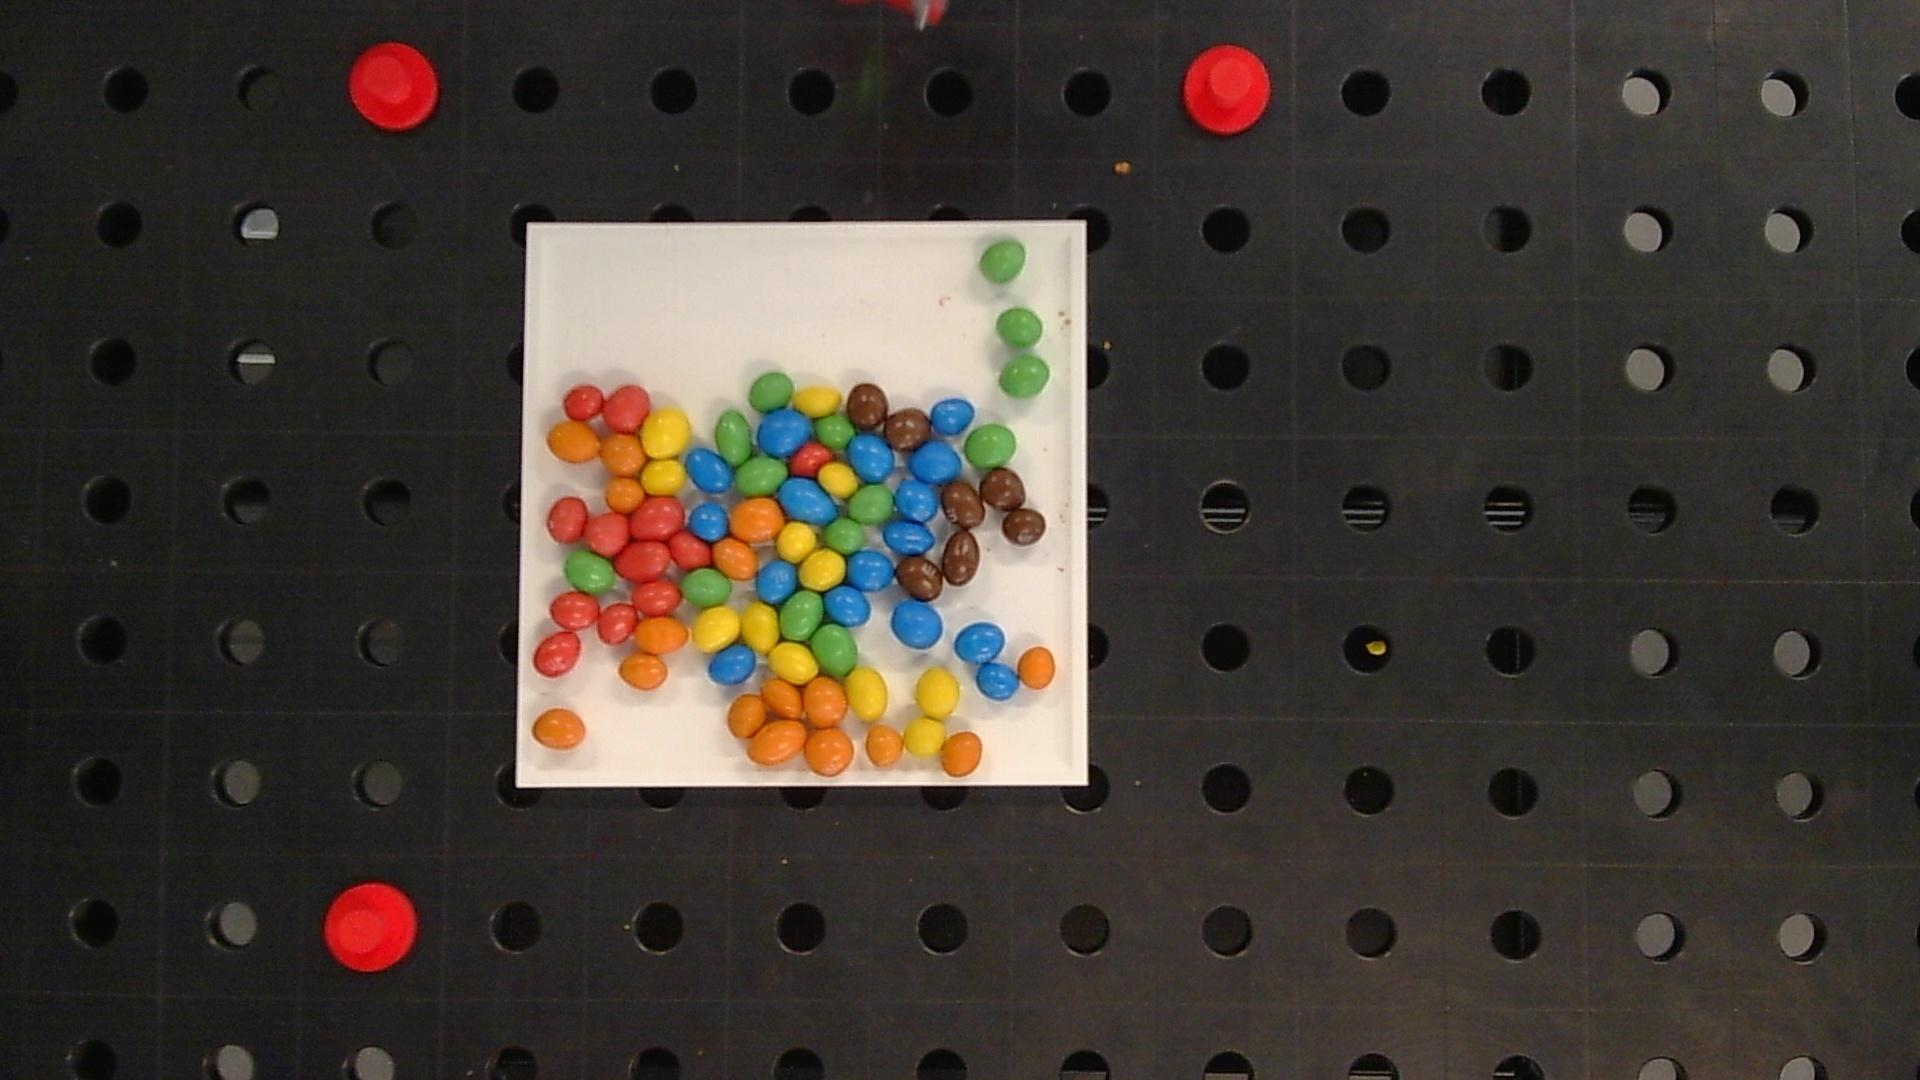blue: (779, 477, 837, 522), (891, 600, 943, 649), (758, 409, 812, 455), (910, 440, 961, 484), (848, 434, 894, 481), (955, 622, 1005, 665), (686, 448, 731, 493), (895, 479, 940, 522), (708, 645, 757, 684), (847, 551, 895, 591), (825, 587, 870, 626), (757, 560, 798, 603), (884, 521, 932, 555), (976, 663, 1021, 700), (931, 397, 975, 434), (688, 502, 728, 539)
brown: (942, 481, 986, 529), (942, 530, 980, 585), (885, 407, 931, 450), (847, 382, 887, 430), (898, 556, 942, 600), (981, 468, 1025, 510), (1002, 509, 1046, 545)
green: (812, 625, 857, 675), (998, 356, 1050, 398), (965, 425, 1017, 467), (564, 550, 616, 592), (779, 592, 823, 640), (736, 455, 787, 495), (978, 241, 1026, 284), (715, 410, 752, 464), (682, 568, 732, 607), (997, 309, 1043, 348), (849, 485, 893, 524), (750, 372, 793, 410), (824, 517, 865, 555), (815, 414, 855, 448)
orange: (748, 720, 806, 765), (804, 728, 855, 775), (531, 708, 587, 749), (731, 498, 783, 541), (547, 422, 600, 462), (804, 678, 847, 725), (713, 537, 758, 579), (636, 617, 688, 653), (942, 732, 982, 777), (600, 434, 645, 475), (620, 653, 669, 690), (864, 725, 903, 766), (728, 694, 766, 736), (1018, 646, 1055, 688), (762, 678, 802, 716), (605, 476, 644, 512)
red: (632, 497, 683, 538), (604, 385, 650, 430), (617, 542, 670, 580), (534, 633, 582, 675), (547, 497, 588, 542), (587, 513, 629, 555), (550, 592, 599, 628), (632, 580, 680, 615), (597, 604, 638, 644), (670, 531, 711, 567), (563, 385, 604, 419), (790, 443, 833, 475)
yellow: (765, 641, 819, 683), (642, 410, 690, 458), (847, 667, 887, 721), (692, 607, 740, 651), (915, 669, 959, 717), (799, 549, 845, 589), (741, 603, 778, 650), (903, 717, 945, 756), (777, 522, 818, 560), (642, 459, 684, 495), (794, 386, 841, 415), (820, 463, 858, 497)
